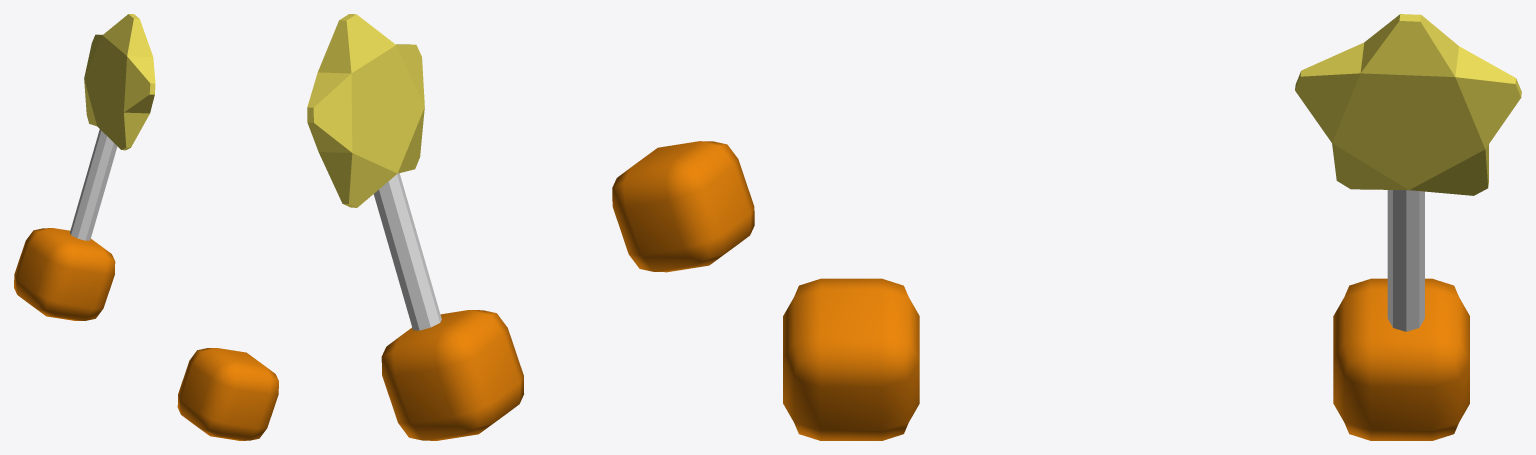
3 views of the same model, side by side, from view 1: azimuth 30°, elevation 25°; view 2: azimuth 150°, elevation 25°; view 3: azimuth 270°, elevation 25° (orthographic). The views are drawn at different scales.
Parts seen in each view (by area): view 1: pCube9, pCube10, pCylinder2, pCylinder1; view 2: pCylinder2, pCube9, pCube10, pCylinder1; view 3: pCylinder2, pCube9, pCube10, pCylinder1.
Boxes of the visible parts, left/top/right/bottom form: pCube9: left=177, top=348, right=278, bottom=440; pCube10: left=14, top=228, right=115, bottom=320; pCylinder2: left=84, top=14, right=155, bottom=150; pCylinder1: left=70, top=129, right=117, bottom=240; pCylinder2: left=307, top=14, right=424, bottom=207; pCube9: left=612, top=141, right=754, bottom=272; pCube10: left=381, top=310, right=523, bottom=440; pCylinder1: left=373, top=173, right=441, bottom=330; pCylinder2: left=1295, top=14, right=1521, bottom=195; pCube9: left=783, top=278, right=919, bottom=440; pCube10: left=1333, top=278, right=1469, bottom=440; pCylinder1: left=1387, top=190, right=1424, bottom=331.
Size of the model in its own units: 1.84 by 4.14 by 5.9.
